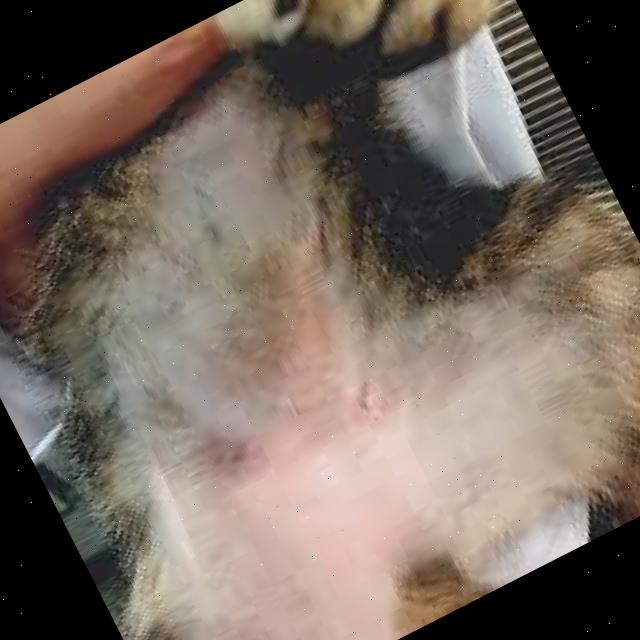cat-hairloss: (132, 221, 451, 580), (386, 286, 570, 490), (162, 103, 310, 261)
